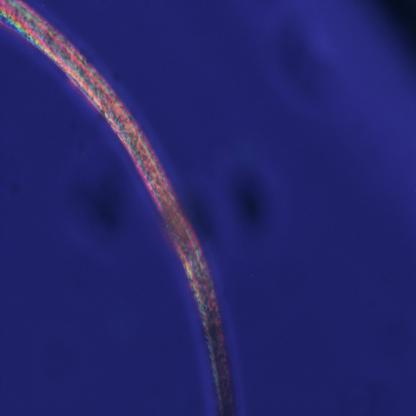Microfibre: (0, 0, 241, 414)
